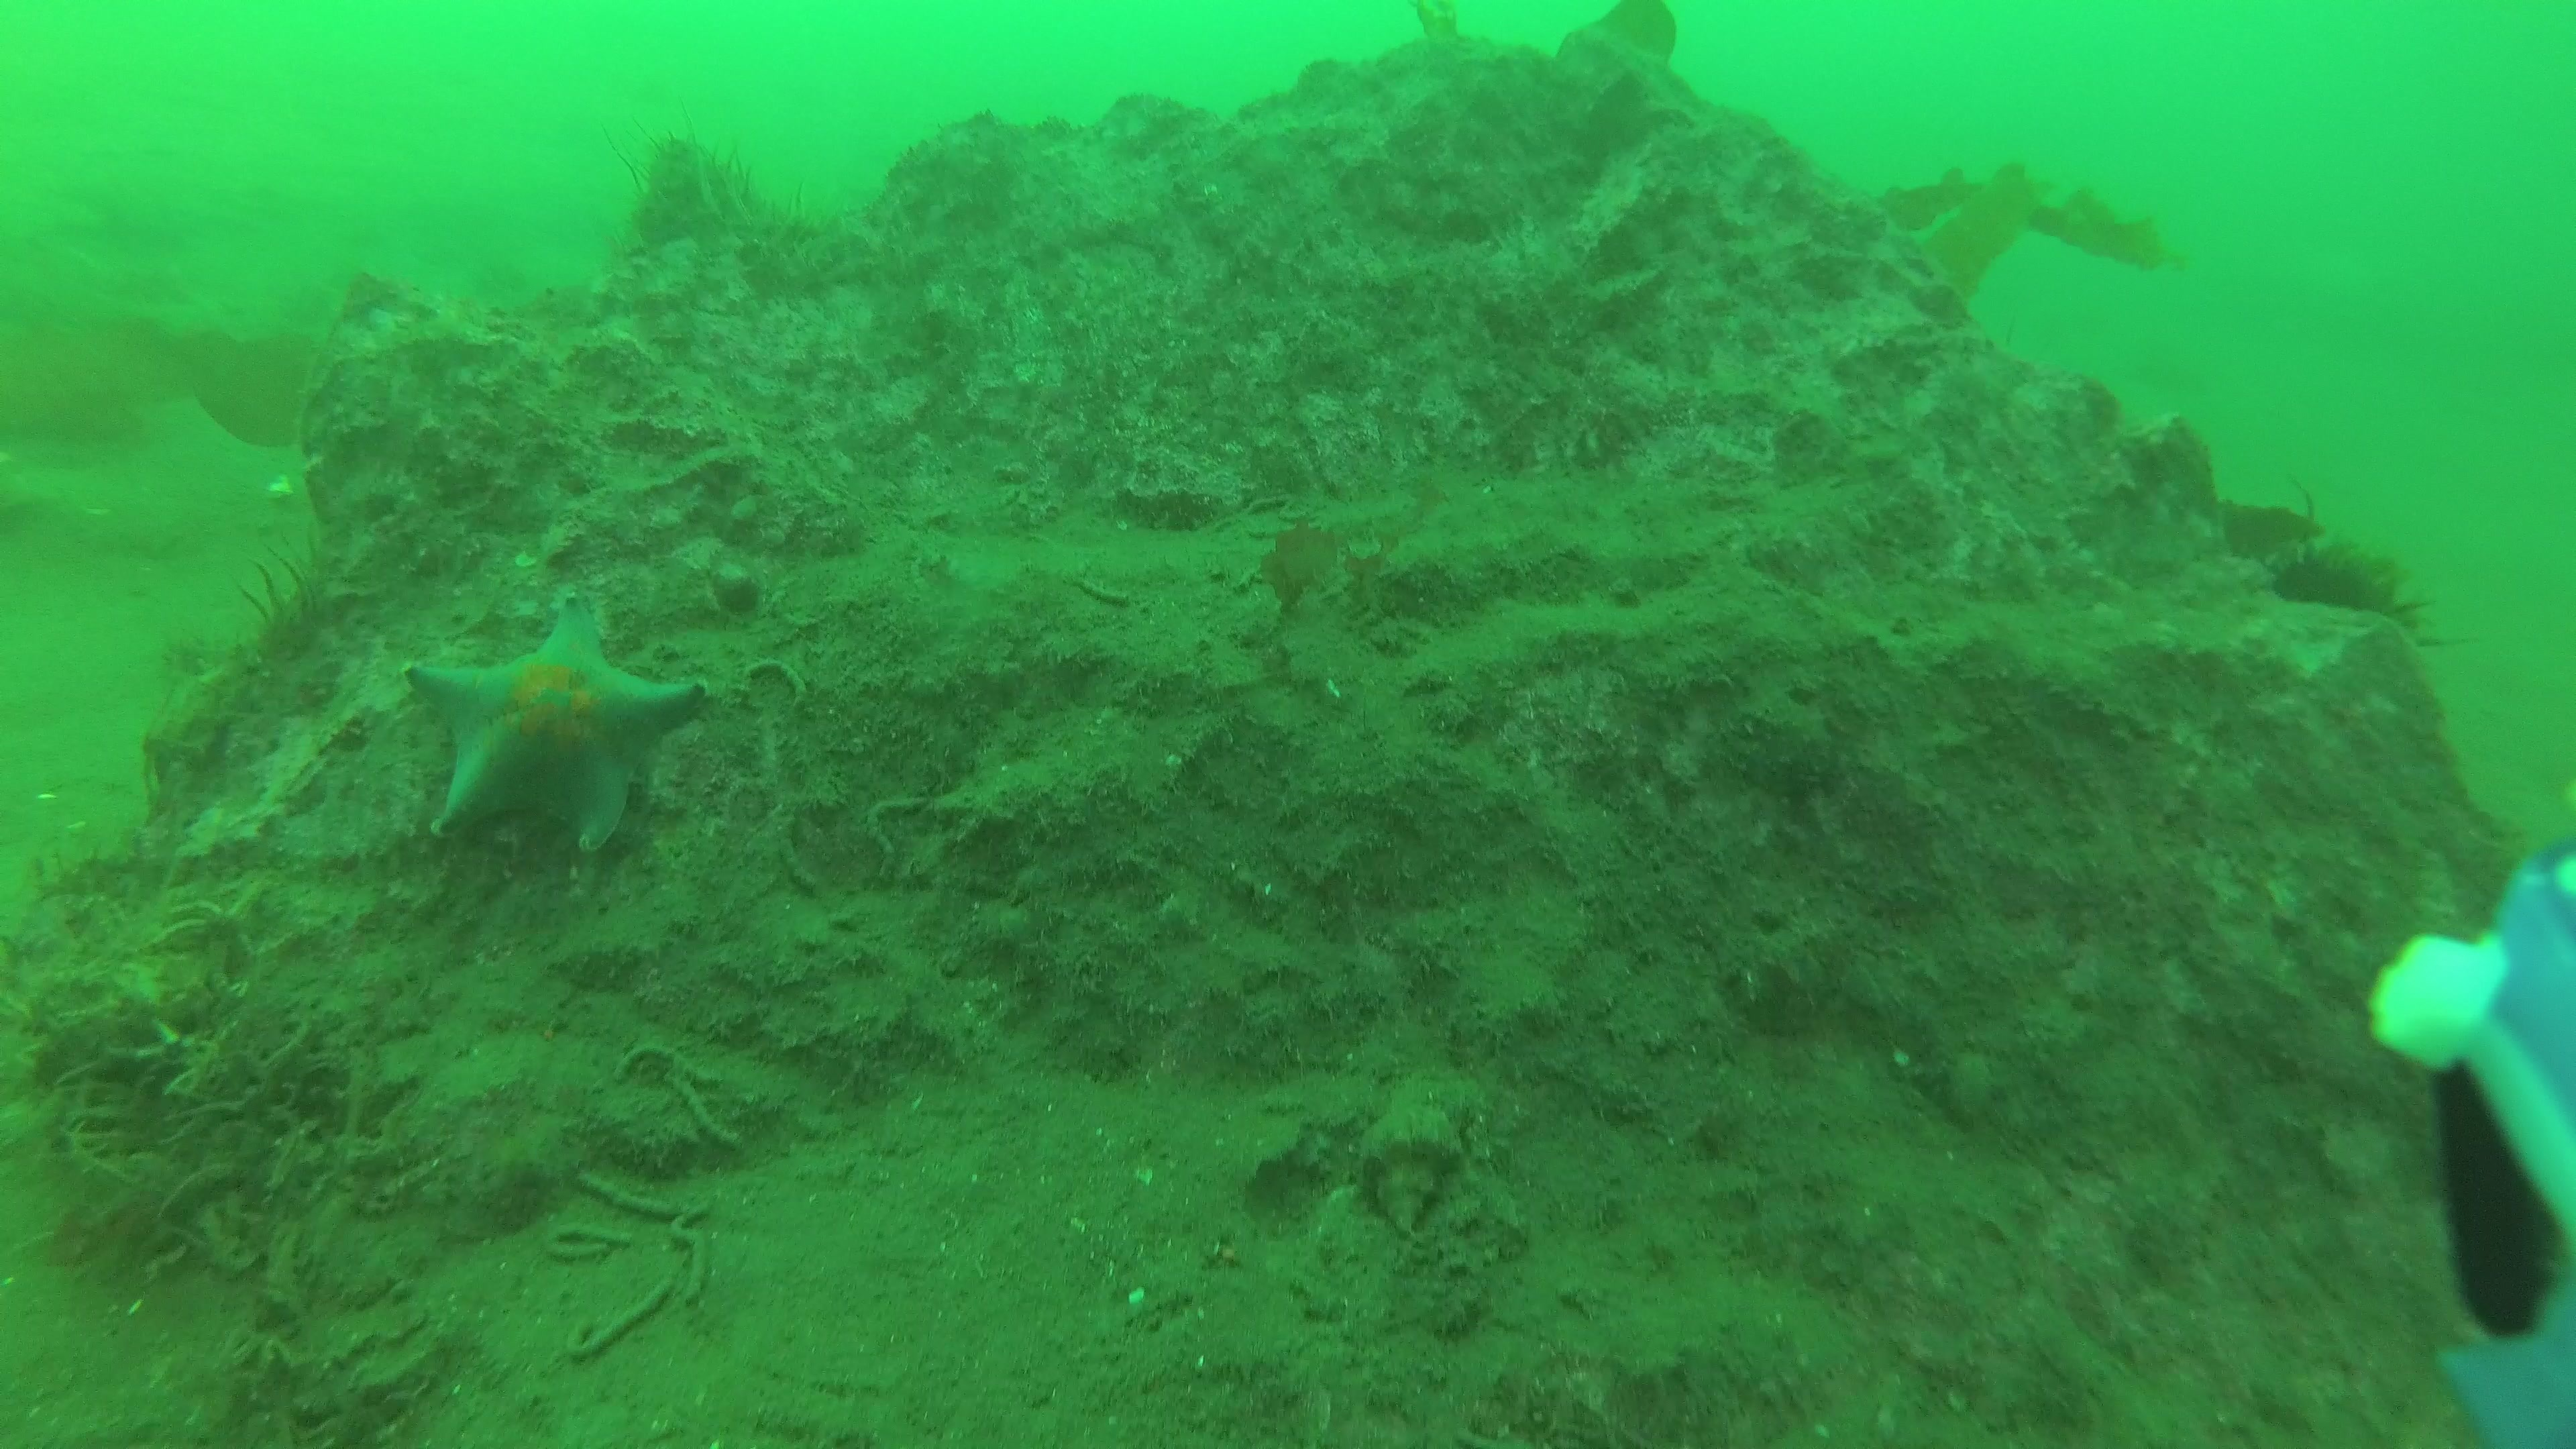echinus: (2268, 540, 2473, 660)
starfish: (403, 589, 715, 863)
